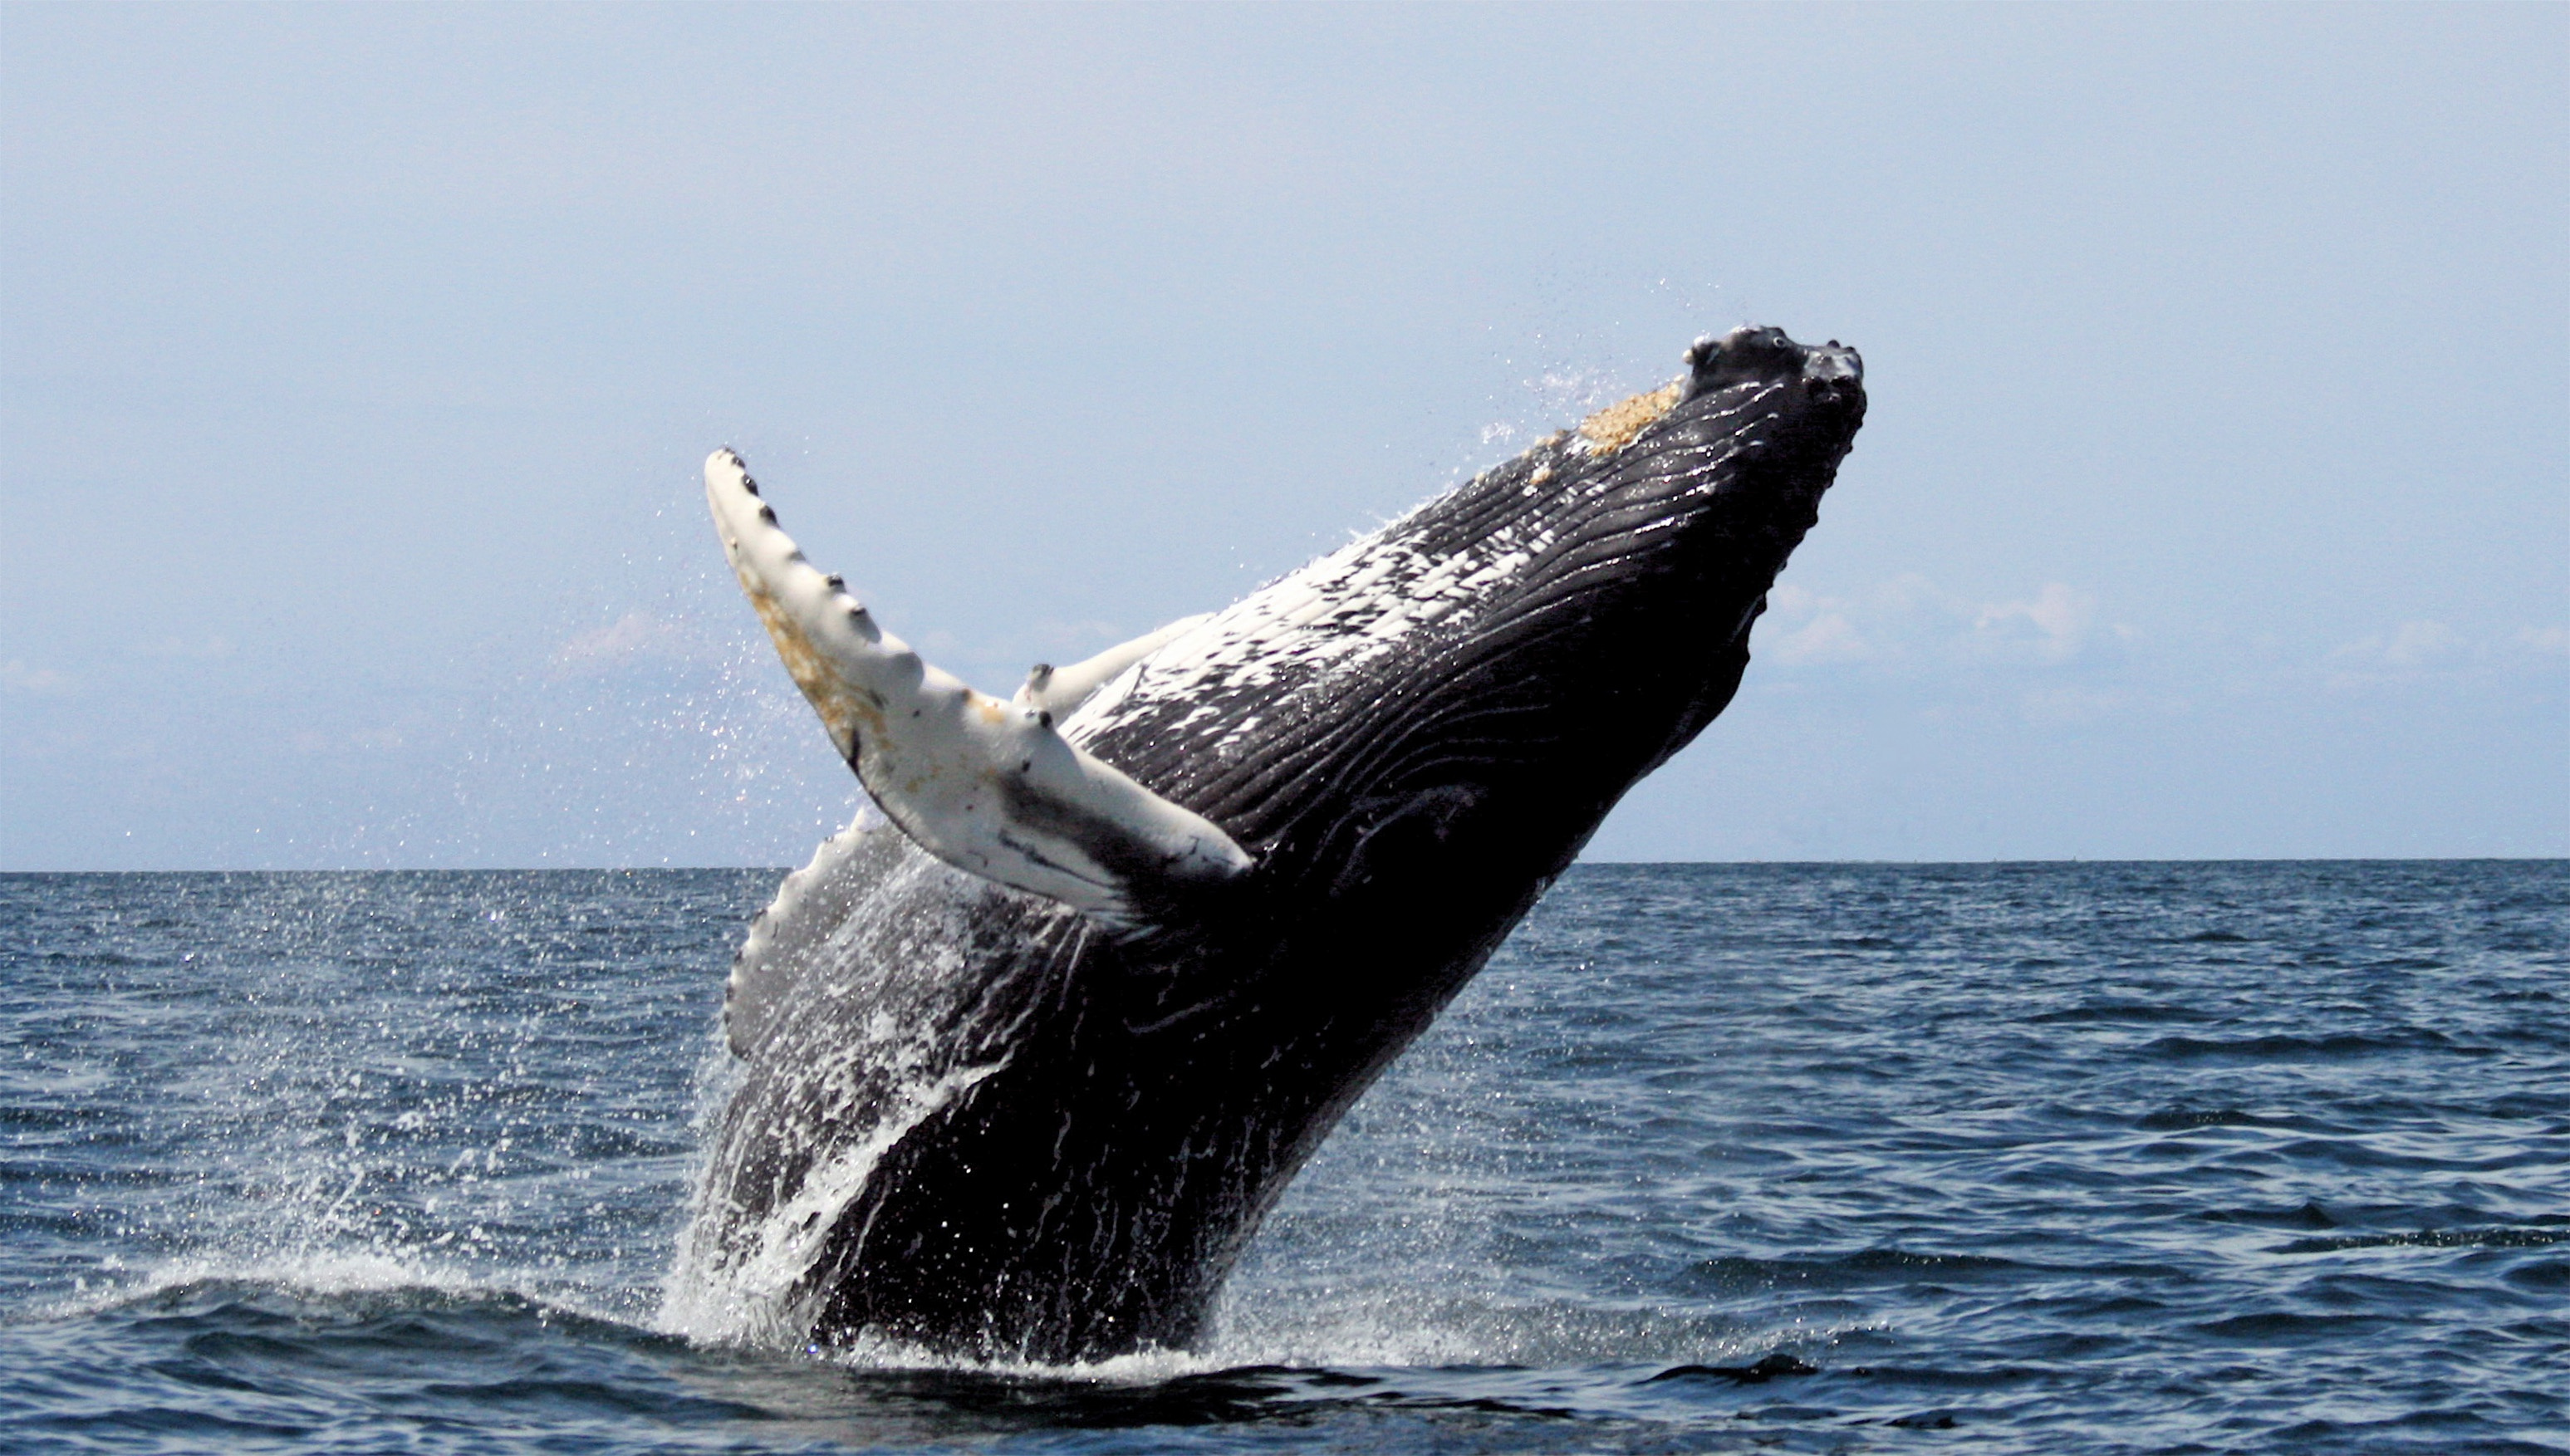humpback: (678, 312, 1867, 1332)
